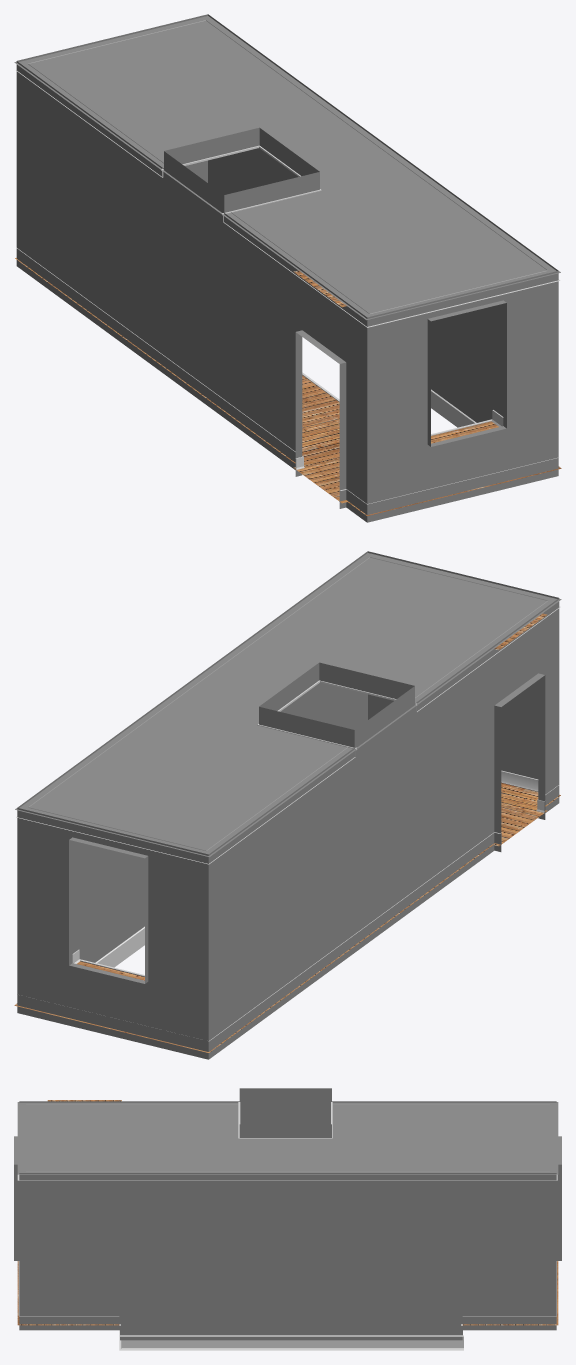
Rendered from BUILDING_stairwellRoof_01.FBX.
3 renders of one model, top to bottom at view 1: azimuth 30°, elevation 25°; view 2: azimuth 150°, elevation 25°; view 3: azimuth 270°, elevation 25°, orthographic. The views are drawn at different scales.
Visible parts, largest first — view 1: BUILDING_stairwellRoof_01_walls, BUILDING_stairwellRoof_01_ceiling, BUILDING_stairwellRoof_01_floor, BUILDING_stairwellRoof_01_topEdge, BUILDING_stairwellRoof_01_plinthe, BUILDING_stairwellRoof_01_stairsTransition; view 2: BUILDING_stairwellRoof_01_walls, BUILDING_stairwellRoof_01_ceiling, BUILDING_stairwellRoof_01_floor, BUILDING_stairwellRoof_01_topEdge, BUILDING_stairwellRoof_01_plinthe, BUILDING_stairwellRoof_01_stairsTransition; view 3: BUILDING_stairwellRoof_01_walls, BUILDING_stairwellRoof_01_ceiling, BUILDING_stairwellRoof_01_stairsTransition, BUILDING_stairwellRoof_01_topEdge, BUILDING_stairwellRoof_01_floor, BUILDING_stairwellRoof_01_plinthe.
Part boxes in pixels (x1=…): BUILDING_stairwellRoof_01_walls: x1=16, y1=14, x2=558, y2=522; BUILDING_stairwellRoof_01_ceiling: x1=14, y1=16, x2=560, y2=320; BUILDING_stairwellRoof_01_floor: x1=15, y1=258, x2=561, y2=515; BUILDING_stairwellRoof_01_topEdge: x1=16, y1=20, x2=560, y2=327; BUILDING_stairwellRoof_01_plinthe: x1=16, y1=247, x2=558, y2=504; BUILDING_stairwellRoof_01_stairsTransition: x1=431, y1=389, x2=476, y2=427; BUILDING_stairwellRoof_01_walls: x1=17, y1=551, x2=559, y2=1059; BUILDING_stairwellRoof_01_ceiling: x1=15, y1=553, x2=561, y2=857; BUILDING_stairwellRoof_01_floor: x1=14, y1=613, x2=560, y2=1052; BUILDING_stairwellRoof_01_topEdge: x1=16, y1=557, x2=560, y2=864; BUILDING_stairwellRoof_01_plinthe: x1=17, y1=770, x2=559, y2=1041; BUILDING_stairwellRoof_01_stairsTransition: x1=95, y1=926, x2=144, y2=967; BUILDING_stairwellRoof_01_walls: x1=14, y1=1088, x2=561, y2=1340; BUILDING_stairwellRoof_01_ceiling: x1=17, y1=1102, x2=558, y2=1174; BUILDING_stairwellRoof_01_stairsTransition: x1=119, y1=1330, x2=463, y2=1350; BUILDING_stairwellRoof_01_topEdge: x1=17, y1=1104, x2=557, y2=1180; BUILDING_stairwellRoof_01_floor: x1=17, y1=1100, x2=558, y2=1325; BUILDING_stairwellRoof_01_plinthe: x1=18, y1=1261, x2=556, y2=1316.
Bounding box in the file's own units: 440 × 515 × 1351.
Materials: 2 (1 with a texture image).
